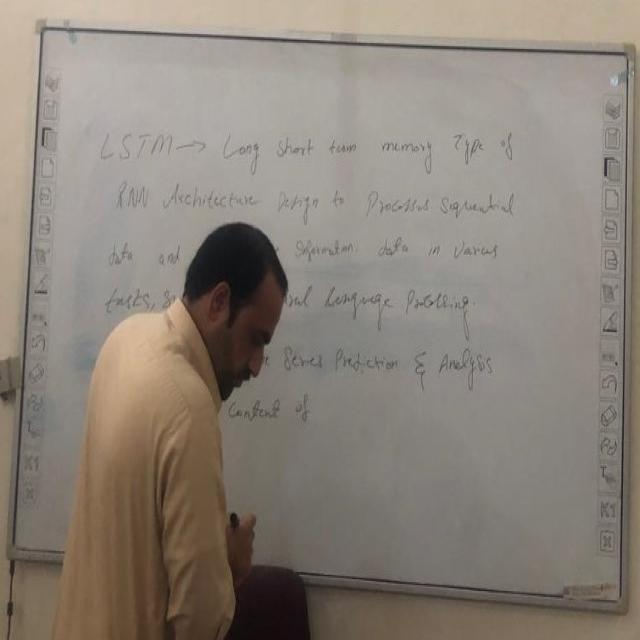Instructor: (79, 203, 287, 640)
White-board: (14, 26, 630, 605)
